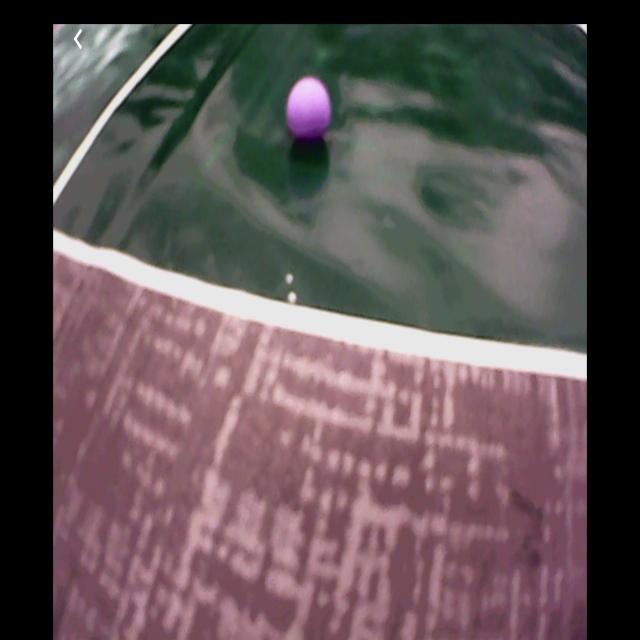ball: (286, 78, 333, 143)
